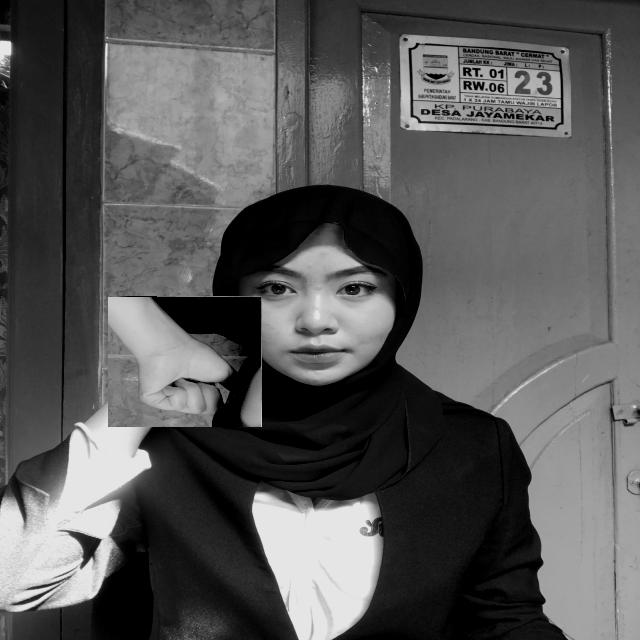ibu: (108, 296, 262, 427)
